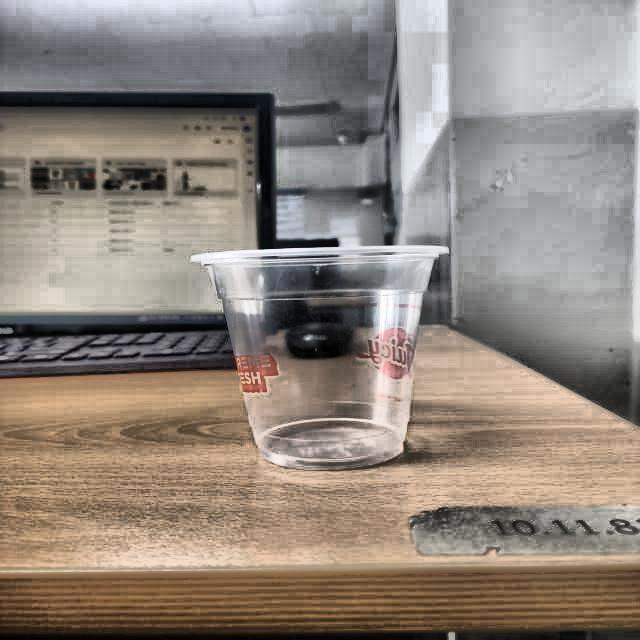plastic cup: (188, 243, 452, 471)
